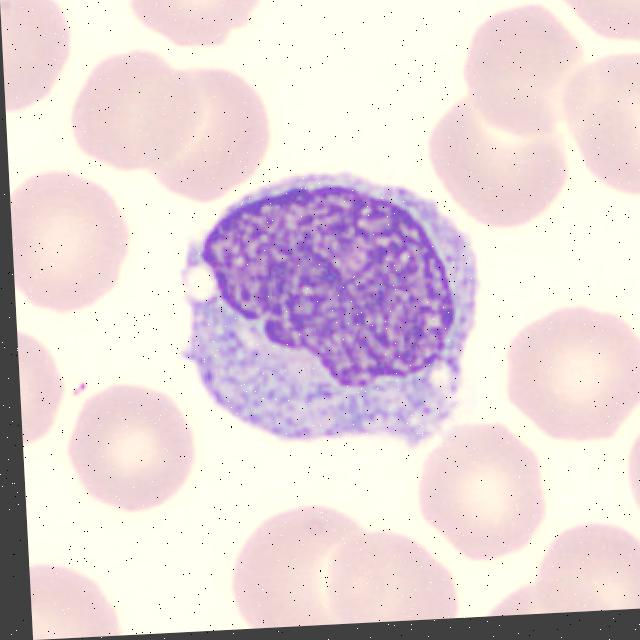monocyte: (151, 153, 505, 485)
rbc: (228, 502, 388, 630), (426, 97, 569, 229), (418, 426, 545, 570), (501, 307, 640, 438), (147, 71, 274, 206), (9, 176, 135, 311), (75, 385, 196, 519), (466, 14, 601, 131), (81, 56, 206, 178), (318, 536, 459, 625), (566, 56, 640, 200), (541, 532, 640, 613), (0, 0, 70, 109), (126, 0, 265, 51), (30, 566, 121, 640), (17, 325, 69, 453), (547, 0, 640, 54), (480, 581, 611, 617), (628, 398, 640, 538)
